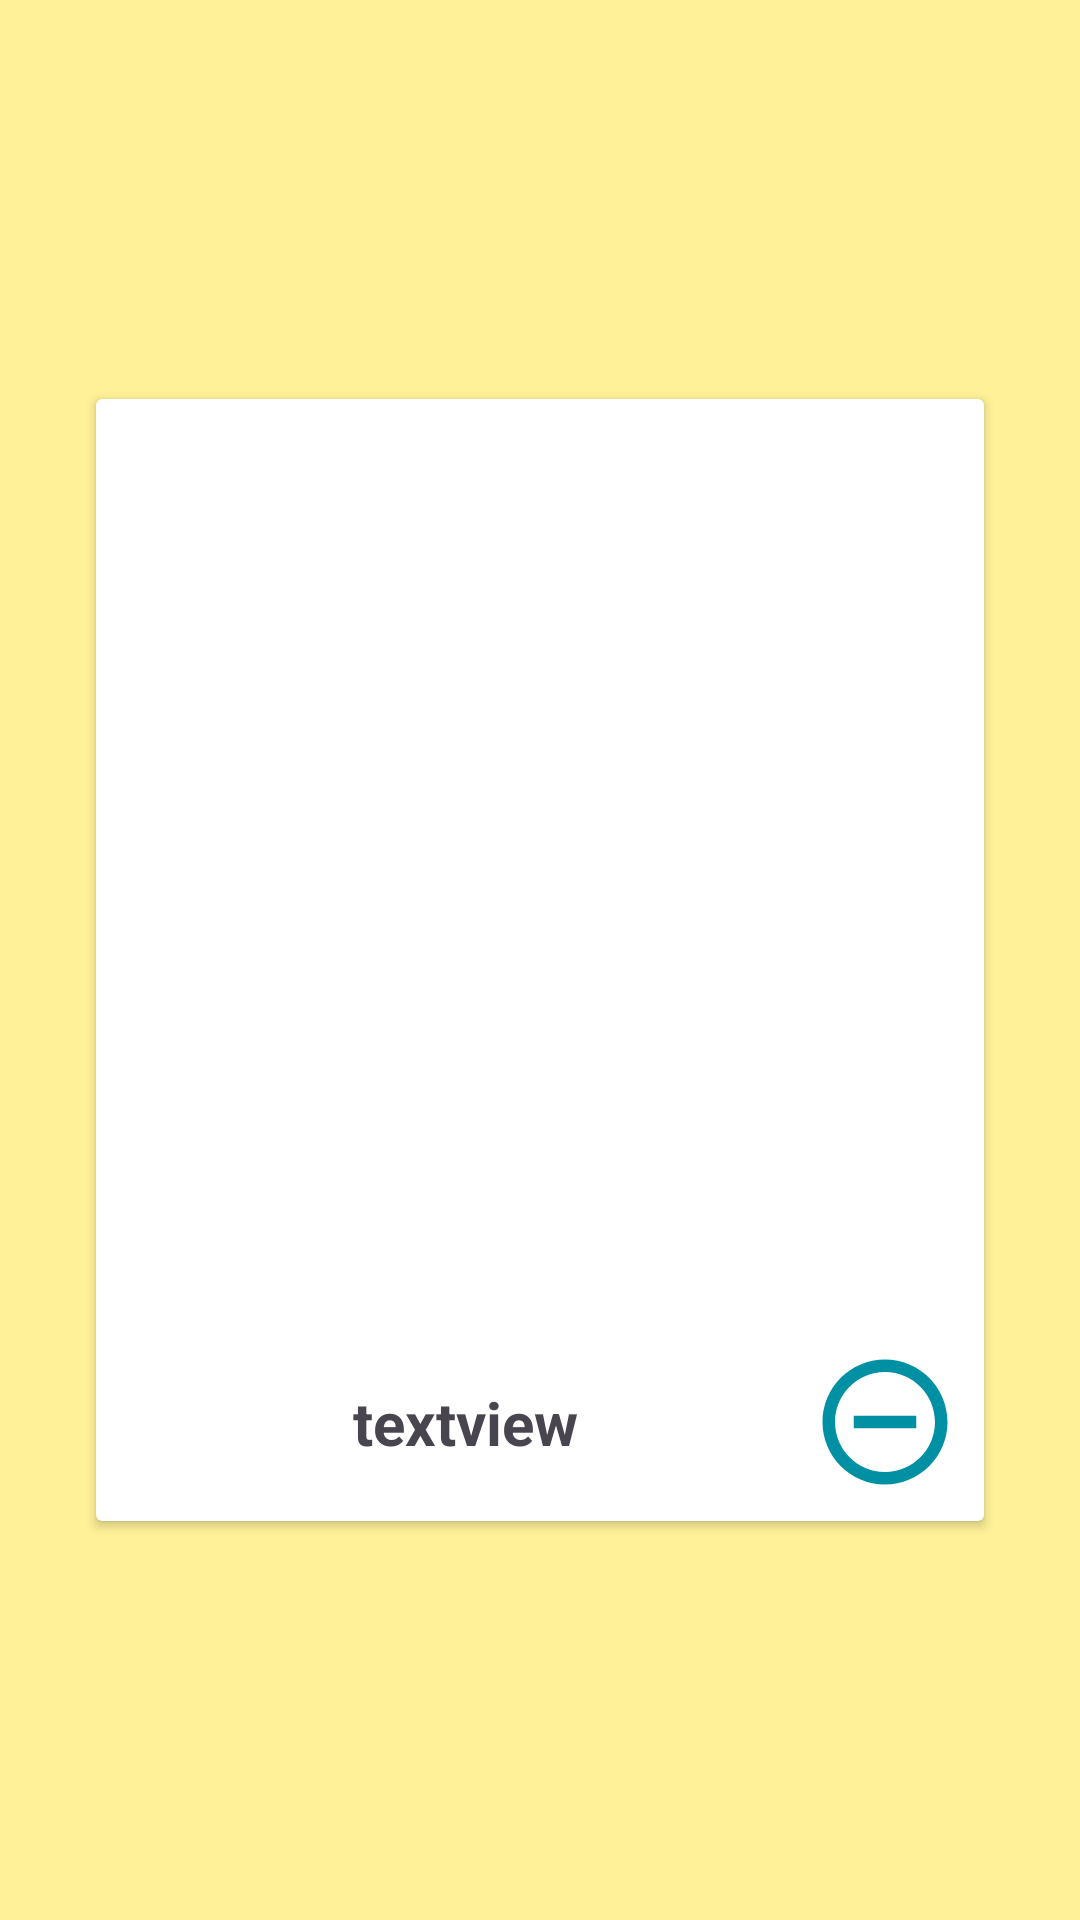

Where to tap for icons on this 1080w x 1920h app screen, as (x=x, y=y):
remove circle: (x=885, y=1422)
